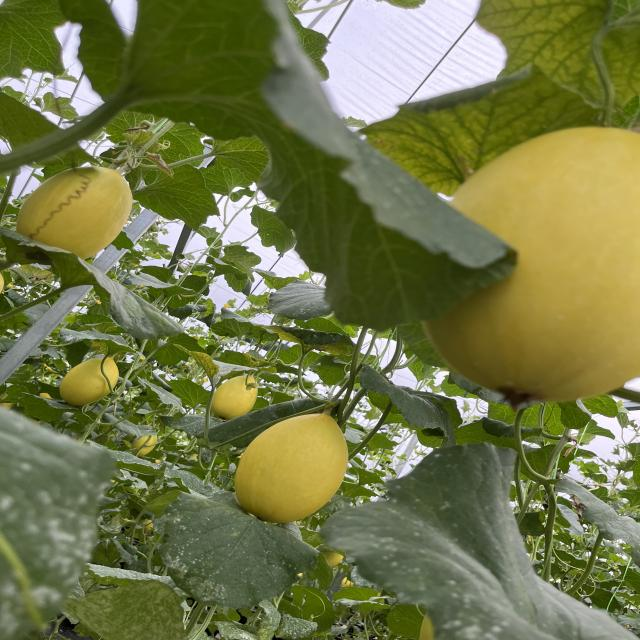CMV: (59, 580, 191, 640), (178, 346, 244, 384)
downy mildew: (361, 371, 466, 438)
healthy: (1, 225, 185, 340), (142, 168, 225, 223), (208, 134, 262, 170)
powdery mildew: (315, 439, 640, 640), (145, 488, 335, 610), (65, 329, 145, 360), (217, 603, 278, 640), (161, 463, 212, 497), (276, 609, 325, 640), (110, 446, 156, 475), (140, 380, 180, 410)
